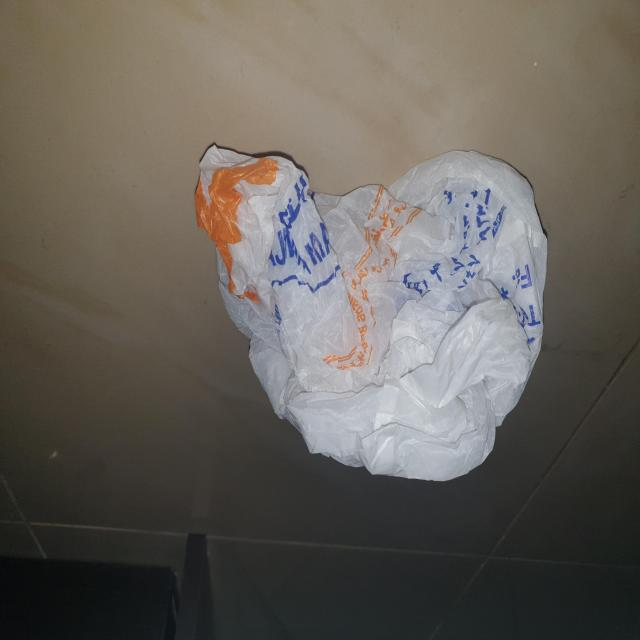plastic bag: (191, 141, 550, 481)
